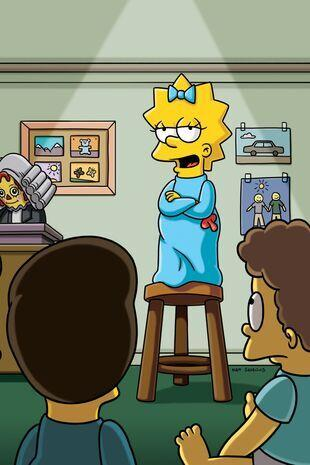Maggie: (128, 77, 246, 293)
